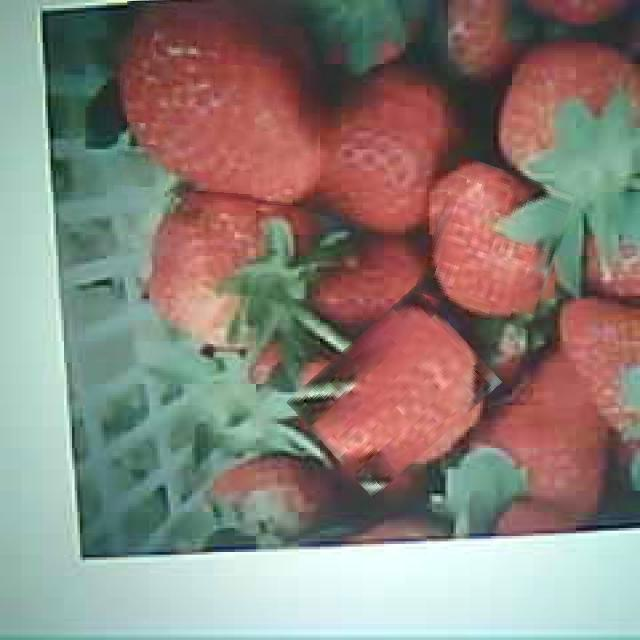strawberry: (117, 1, 323, 204), (296, 306, 491, 478), (423, 163, 568, 323)
